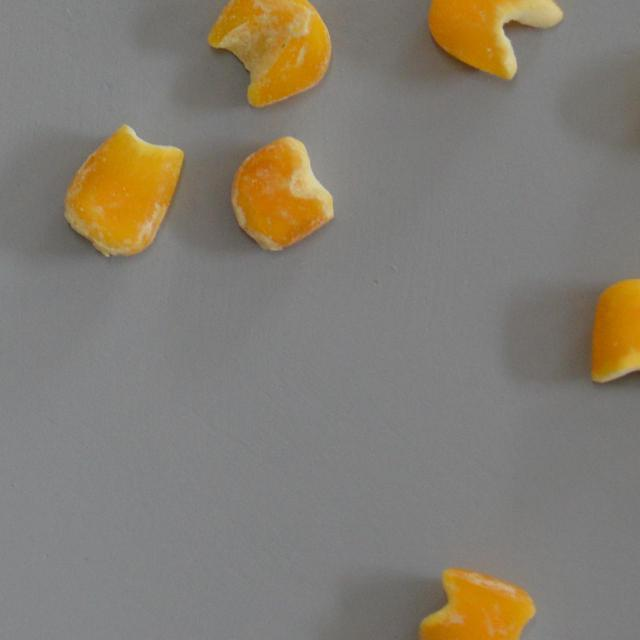no_canjicado: (428, 0, 562, 80), (590, 278, 640, 390)
pelicula: (60, 123, 185, 255), (208, 0, 332, 107), (230, 135, 334, 253), (418, 566, 537, 640)
